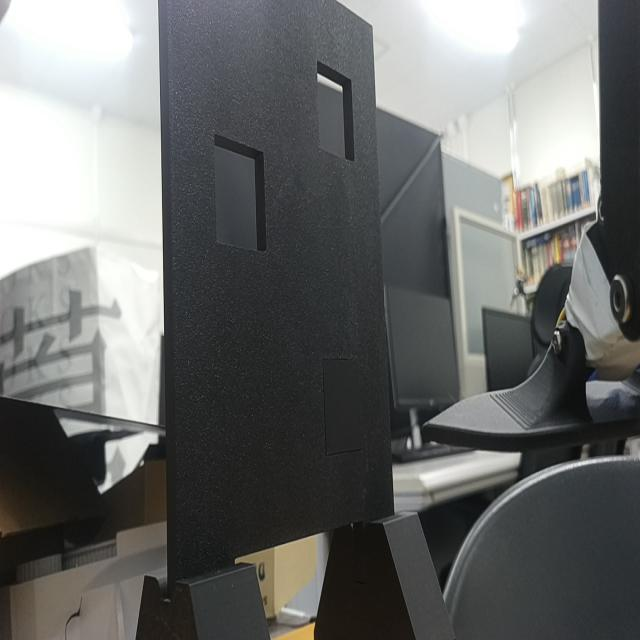Obstacle: (214, 133, 267, 251), (318, 62, 355, 162)
Wall: (159, 0, 392, 588)
